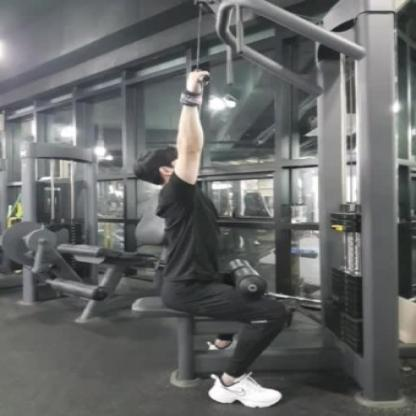Lat Pull Down: (103, 0, 416, 416)
